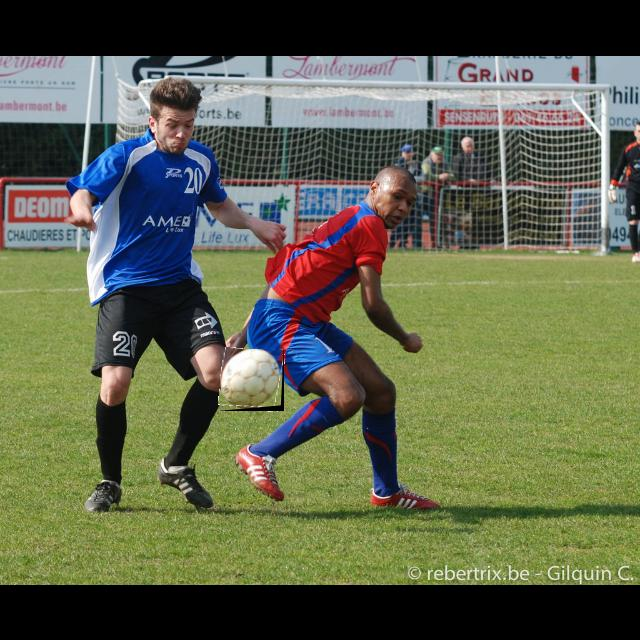Football: (220, 349, 284, 411)
